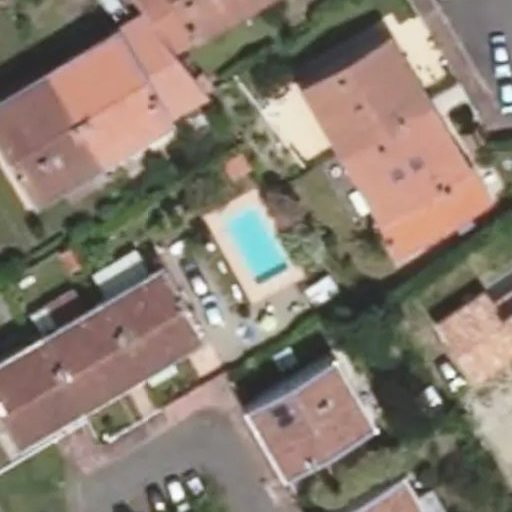pool: (221, 205, 291, 287)
